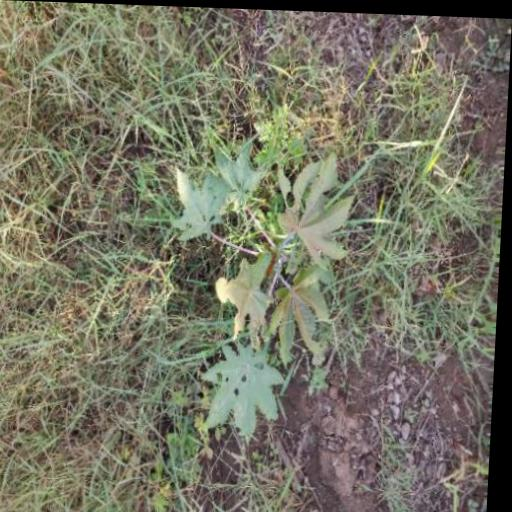weed: (163, 136, 398, 465), (0, 13, 135, 484)
